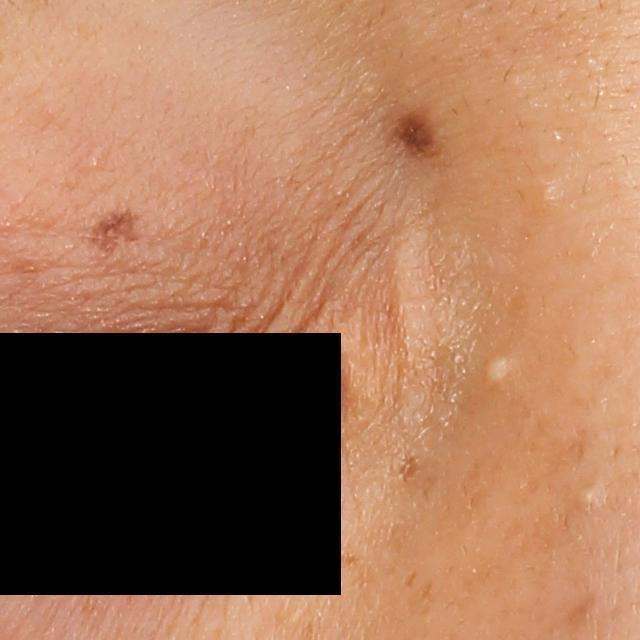comedo: (571, 483, 604, 516), (87, 153, 105, 173)
melasma: (383, 106, 445, 162), (88, 202, 141, 261), (557, 591, 615, 639), (394, 454, 426, 488), (400, 569, 420, 590)
other: (384, 213, 456, 424), (521, 181, 571, 227), (480, 349, 517, 397)
